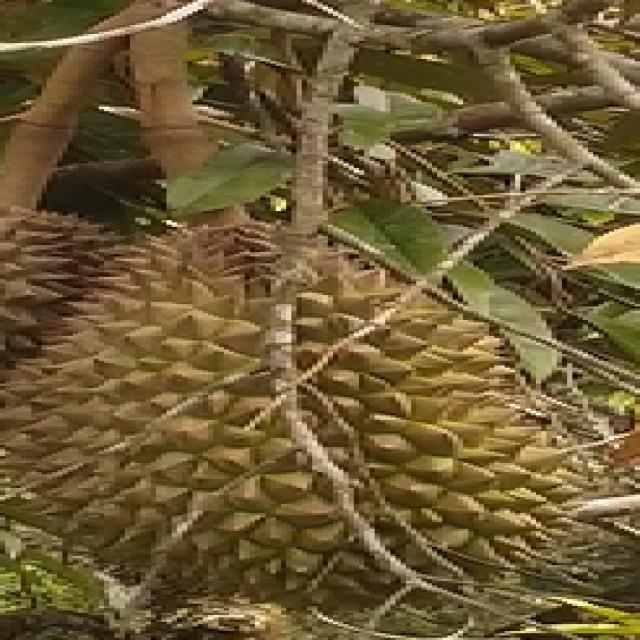mature: (0, 220, 578, 610)
